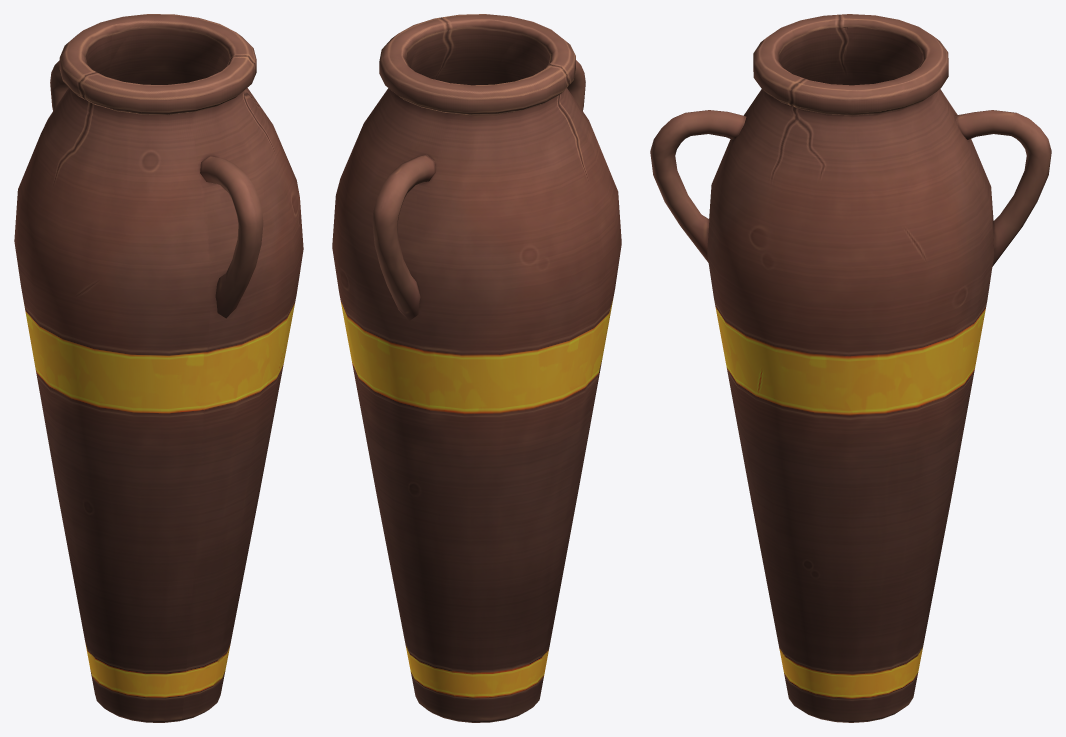
The model's file is SM_Large_Vase.fbx.
3 views of the same model, side by side, from view 1: azimuth 30°, elevation 25°; view 2: azimuth 150°, elevation 25°; view 3: azimuth 270°, elevation 25° (orthographic).
Parts seen in each view (by area): view 1: SM_Large_Vase_LOD0; view 2: SM_Large_Vase_LOD0; view 3: SM_Large_Vase_LOD0.
Boxes of the visible parts, left/top/right/bottom form: SM_Large_Vase_LOD0: left=14, top=14, right=303, bottom=722; SM_Large_Vase_LOD0: left=332, top=14, right=621, bottom=722; SM_Large_Vase_LOD0: left=650, top=14, right=1051, bottom=722.
Size of the model in its own units: 38.37 by 53.17 by 94.47.
Materials: 1 (1 with a texture image).
